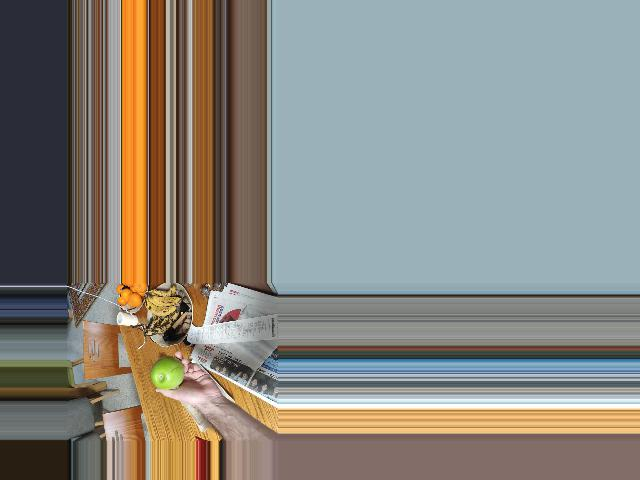apple: (150, 356, 186, 389)
